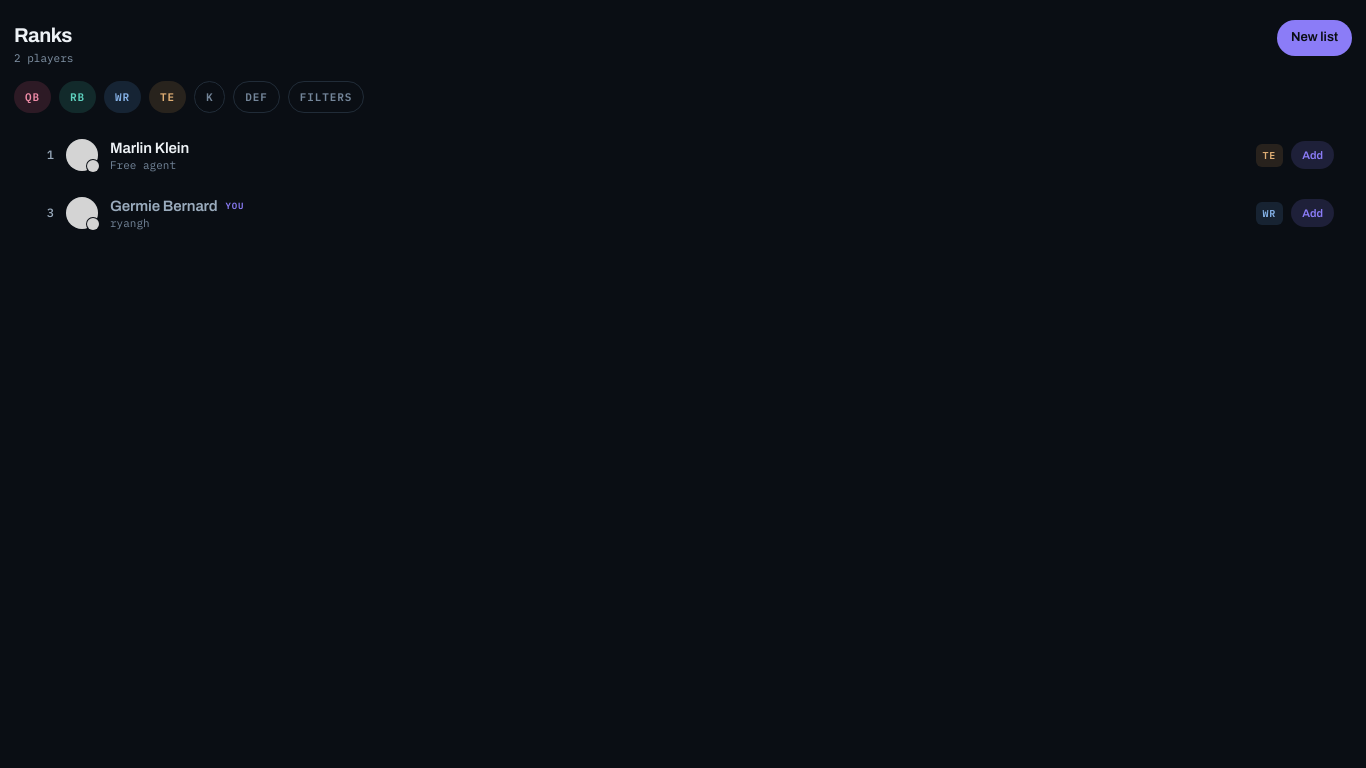
RanksPanel ADP type picker › has no ADP type selected by default, then reflects the pressed option, and counts toward FILTERS
Click the button "FILTERS": click(326, 97) x1=288 y1=80 x2=364 y2=113
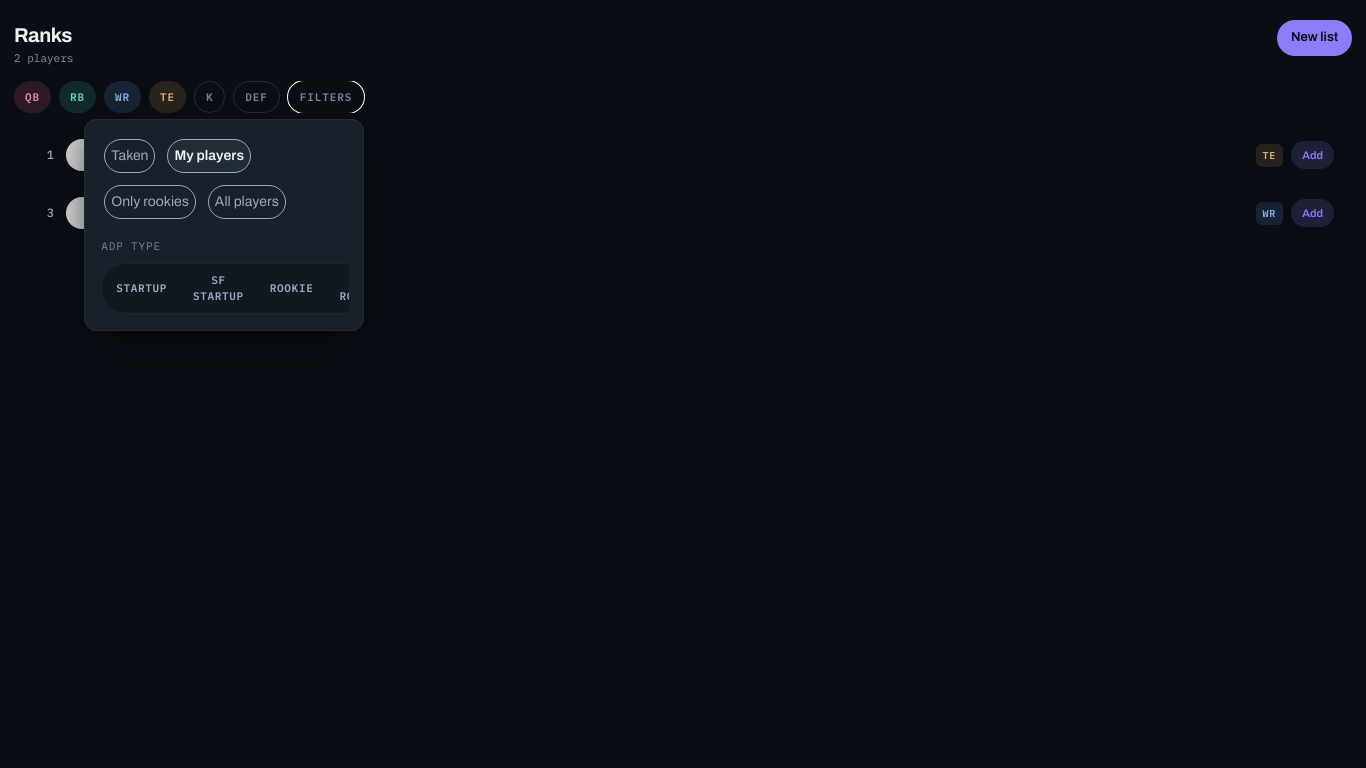
Click the button "Rookie": click(292, 288) x1=258 y1=266 x2=325 y2=310
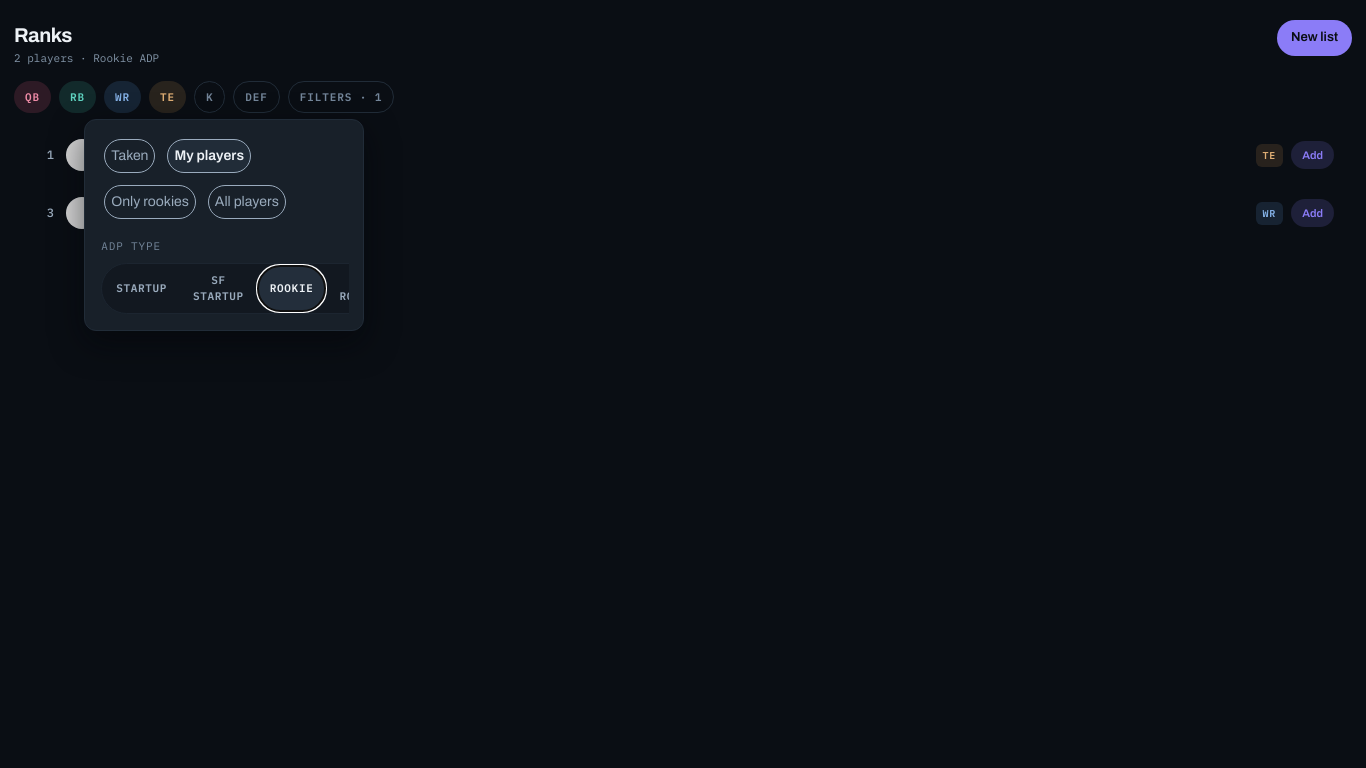
Expected: the button "FILTERS · 1" is shown, x1=288 y1=80 x2=394 y2=113
